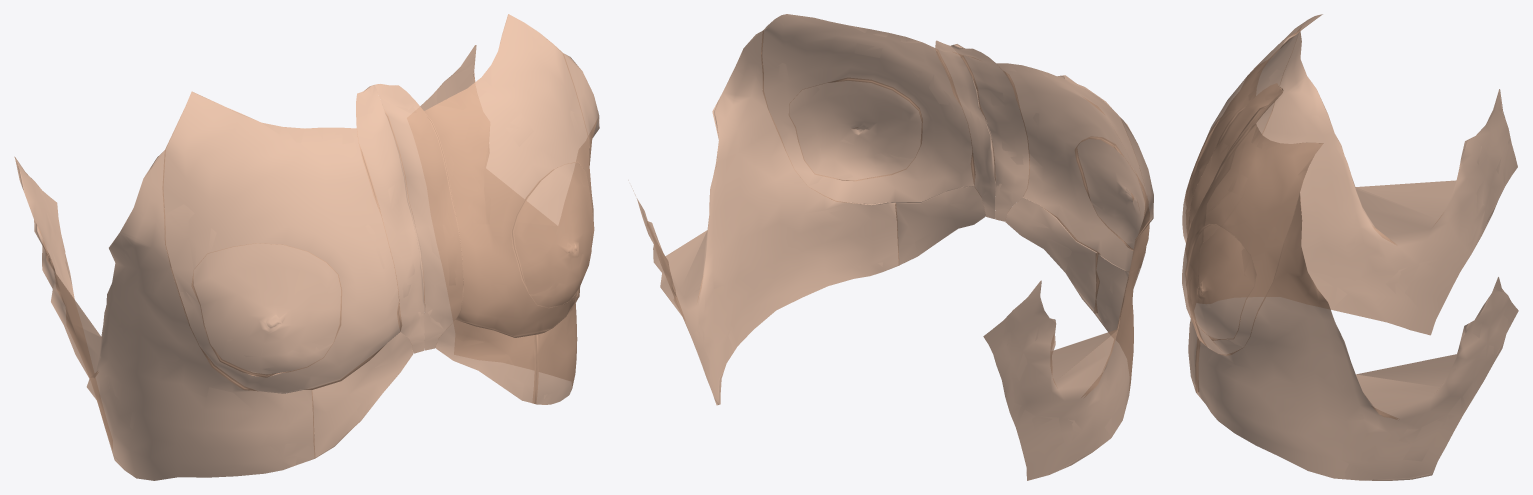
The model's file is regions.thorax.glb.
3 renders of one model, left to right at view 1: azimuth 30°, elevation 25°; view 2: azimuth 150°, elevation 25°; view 3: azimuth 270°, elevation 25°, orthographic. The views are drawn at different scales.
Parts seen in each view (by area): view 1: right_pectoral_region, right_lateral_region_of_thorax, left_pectoral_region, right_mammary_region, left_presternal_region, left_mammary_region, right_presternal_region, left_lateral_region_of_thorax, right_inframammary_region, left_inframammary_region; view 2: left_lateral_region_of_thorax, left_pectoral_region, right_lateral_region_of_thorax, right_pectoral_region, left_mammary_region, right_presternal_region, right_mammary_region, left_inframammary_region, right_inframammary_region, left_presternal_region; view 3: left_lateral_region_of_thorax, right_lateral_region_of_thorax, left_pectoral_region, left_mammary_region, right_pectoral_region, right_presternal_region, left_inframammary_region, left_presternal_region.
Part boxes in pixels (x1=…): right_pectoral_region: x1=162, y1=91, x2=402, y2=393; right_lateral_region_of_thorax: x1=14, y1=150, x2=314, y2=480; left_pectoral_region: x1=424, y1=14, x2=594, y2=337; right_mammary_region: x1=191, y1=243, x2=342, y2=377; left_presternal_region: x1=375, y1=84, x2=463, y2=350; left_mammary_region: x1=511, y1=161, x2=594, y2=307; right_presternal_region: x1=356, y1=84, x2=424, y2=353; left_lateral_region_of_thorax: x1=420, y1=45, x2=599, y2=404; right_inframammary_region: x1=312, y1=332, x2=413, y2=458; left_inframammary_region: x1=435, y1=320, x2=538, y2=404; left_lateral_region_of_thorax: x1=628, y1=30, x2=899, y2=405; left_pectoral_region: x1=761, y1=14, x2=975, y2=205; right_lateral_region_of_thorax: x1=983, y1=117, x2=1153, y2=480; right_pectoral_region: x1=996, y1=63, x2=1149, y2=271; left_mammary_region: x1=788, y1=78, x2=922, y2=181; right_presternal_region: x1=951, y1=44, x2=1029, y2=221; right_mammary_region: x1=1074, y1=136, x2=1149, y2=252; left_inframammary_region: x1=895, y1=186, x2=985, y2=265; right_inframammary_region: x1=1005, y1=198, x2=1099, y2=313; left_presternal_region: x1=935, y1=40, x2=995, y2=218; left_lateral_region_of_thorax: x1=1195, y1=193, x2=1518, y2=480; right_lateral_region_of_thorax: x1=1262, y1=31, x2=1517, y2=335; left_pectoral_region: x1=1182, y1=123, x2=1323, y2=355; left_mammary_region: x1=1184, y1=223, x2=1256, y2=340; right_pectoral_region: x1=1182, y1=14, x2=1322, y2=242; right_presternal_region: x1=1188, y1=83, x2=1283, y2=232; left_inframammary_region: x1=1188, y1=319, x2=1200, y2=392; left_presternal_region: x1=1196, y1=91, x2=1283, y2=213.
Size of the model in its own units: 0.351 by 0.268 by 0.2497.
